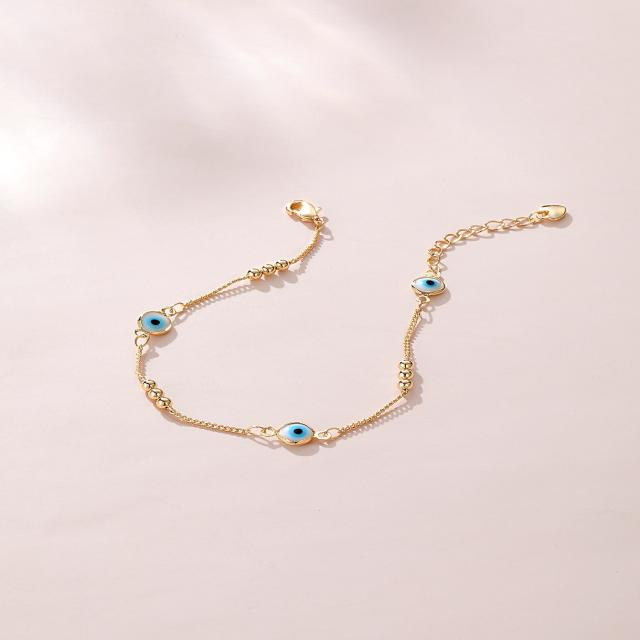bracelet: (96, 88, 640, 582)
